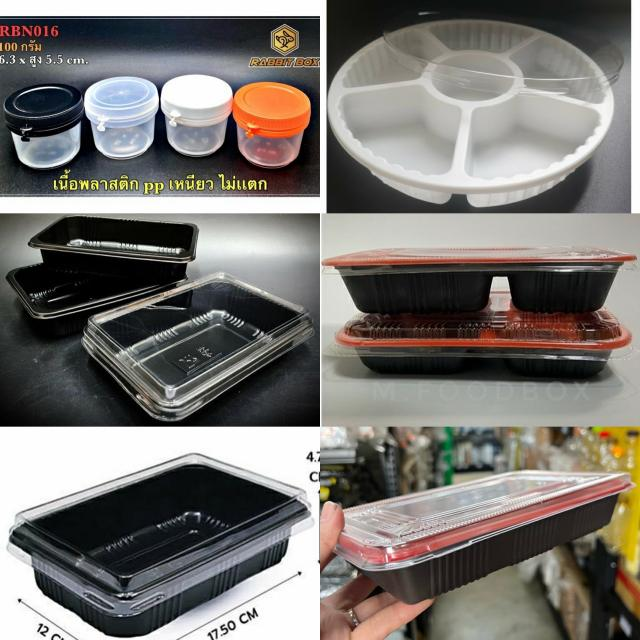Single-Use-Plastic: (9, 454, 311, 636), (328, 19, 614, 208), (335, 470, 633, 604), (83, 272, 313, 421), (335, 300, 632, 378), (323, 248, 635, 314), (6, 264, 178, 336), (29, 215, 199, 285), (4, 84, 84, 169), (233, 82, 310, 168), (84, 76, 159, 158), (160, 75, 233, 156)
